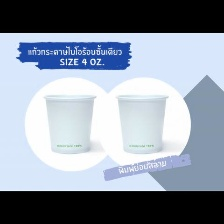paper_cup: (39, 88, 98, 157), (112, 90, 171, 156)
